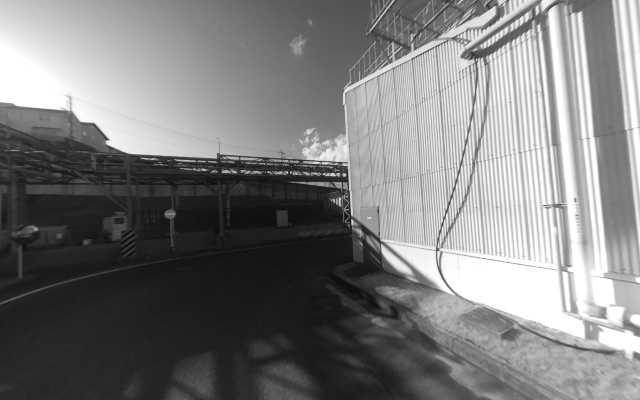bollard: (119, 229, 138, 265)
